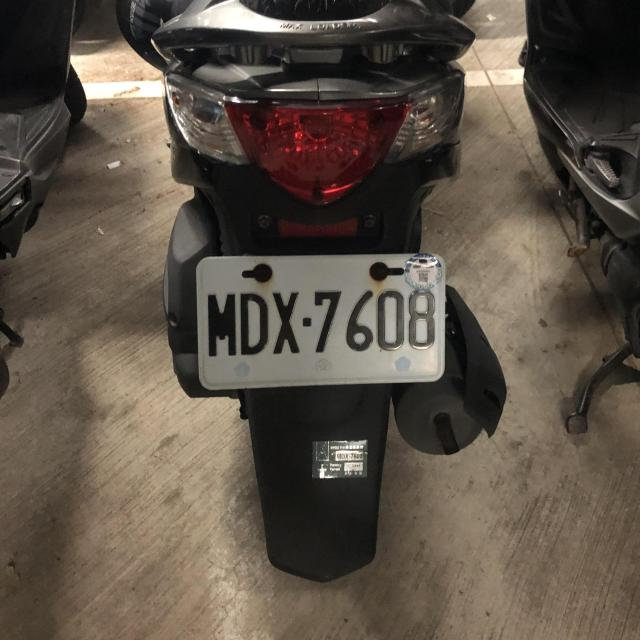W: (194, 247, 446, 391)
